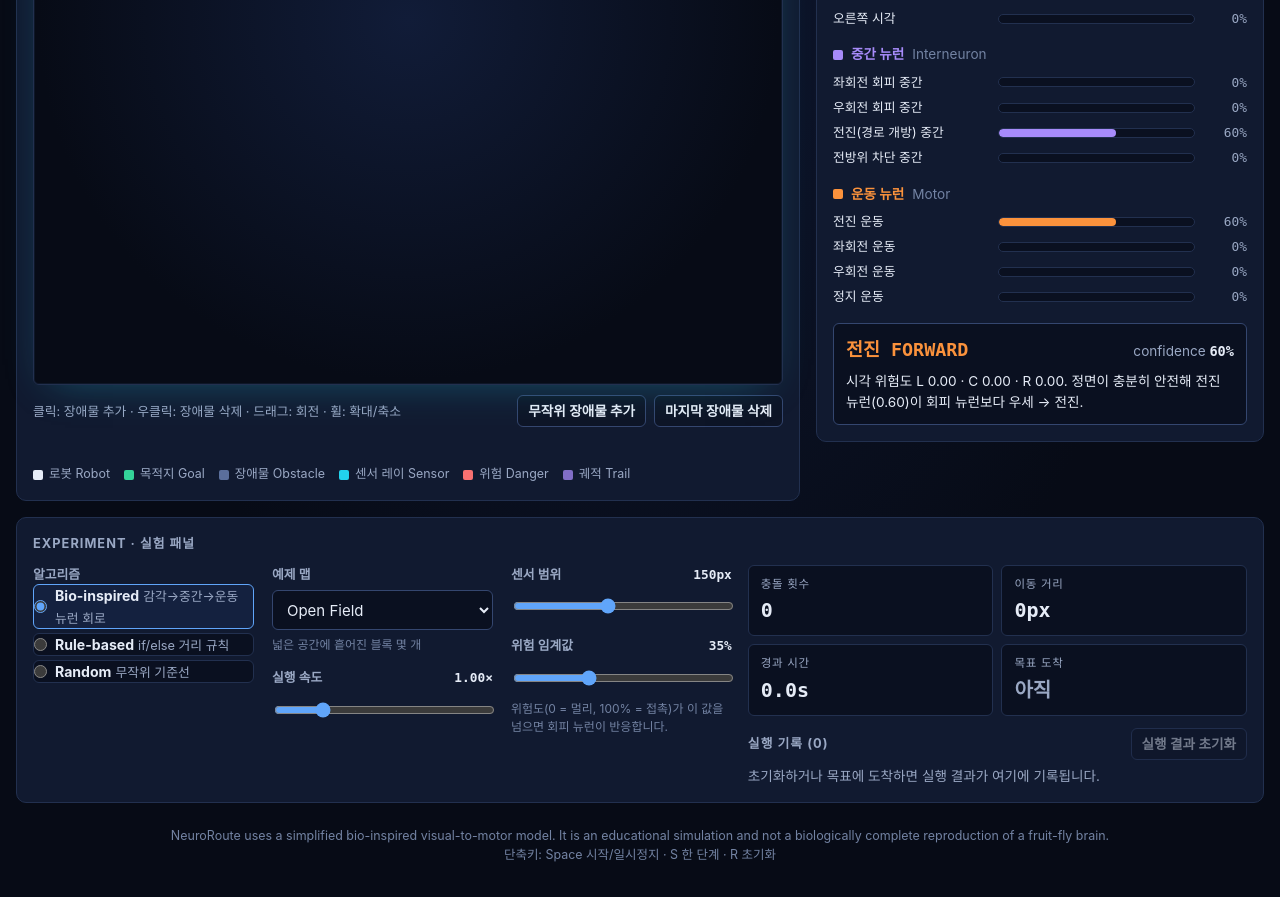
Test: App › changes map, speed, sensor range and danger threshold
(page scrolled)
Select "Maze" in the dropdown labelled "예제 맵" at (382, 610), box [272,590,493,630]
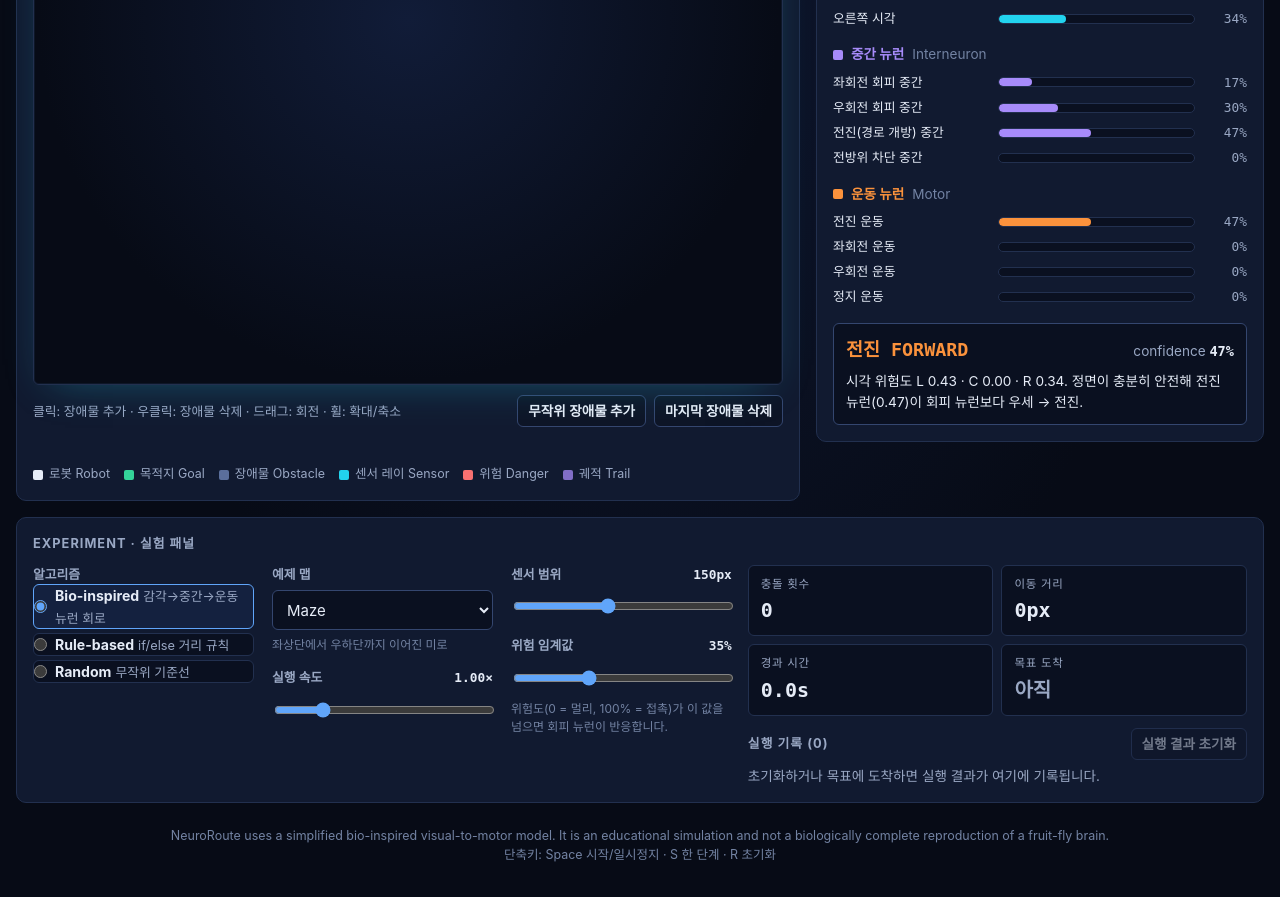
Set the slider labelled "센서 범위 150px" to "250" at (686, 606), box [513,592,734,620]
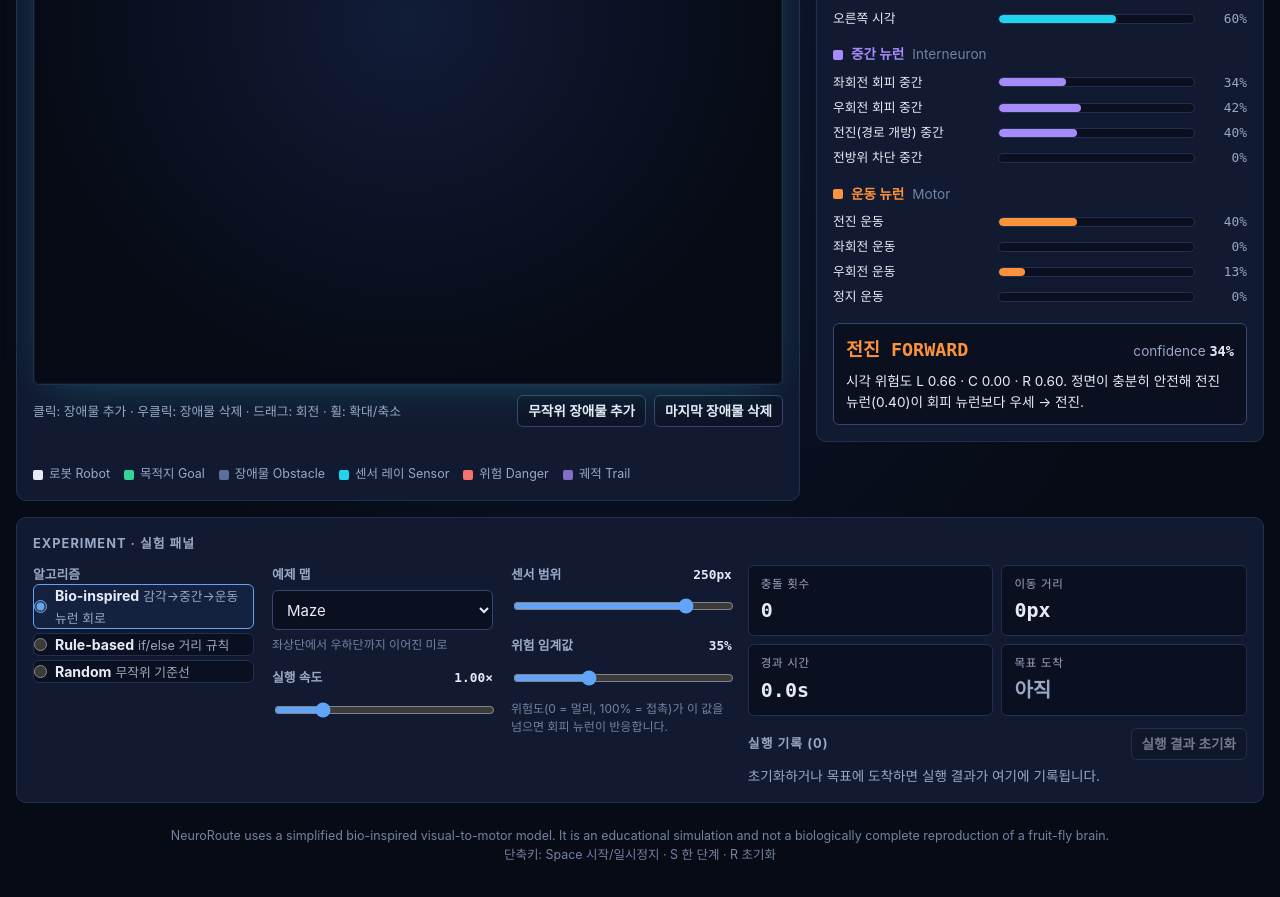
Set the slider labelled "위험 임계값 35%" to "0.5" at (623, 678), box [513,664,734,692]
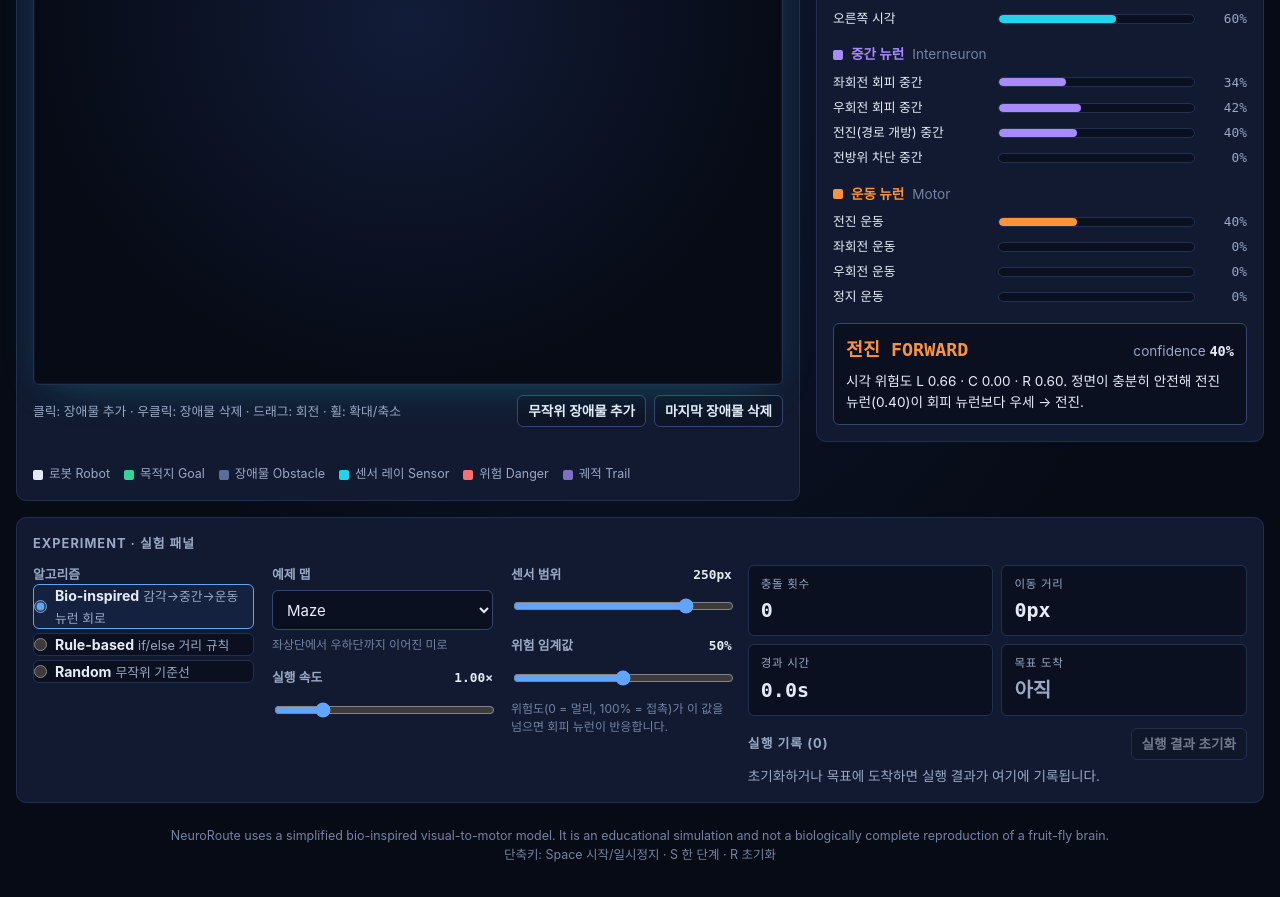
Check: the text "50%" is shown, box [709,636,732,656]
Set the slider labelled "실행 속도 1.00×" to "2" at (378, 710), box [274,696,495,724]
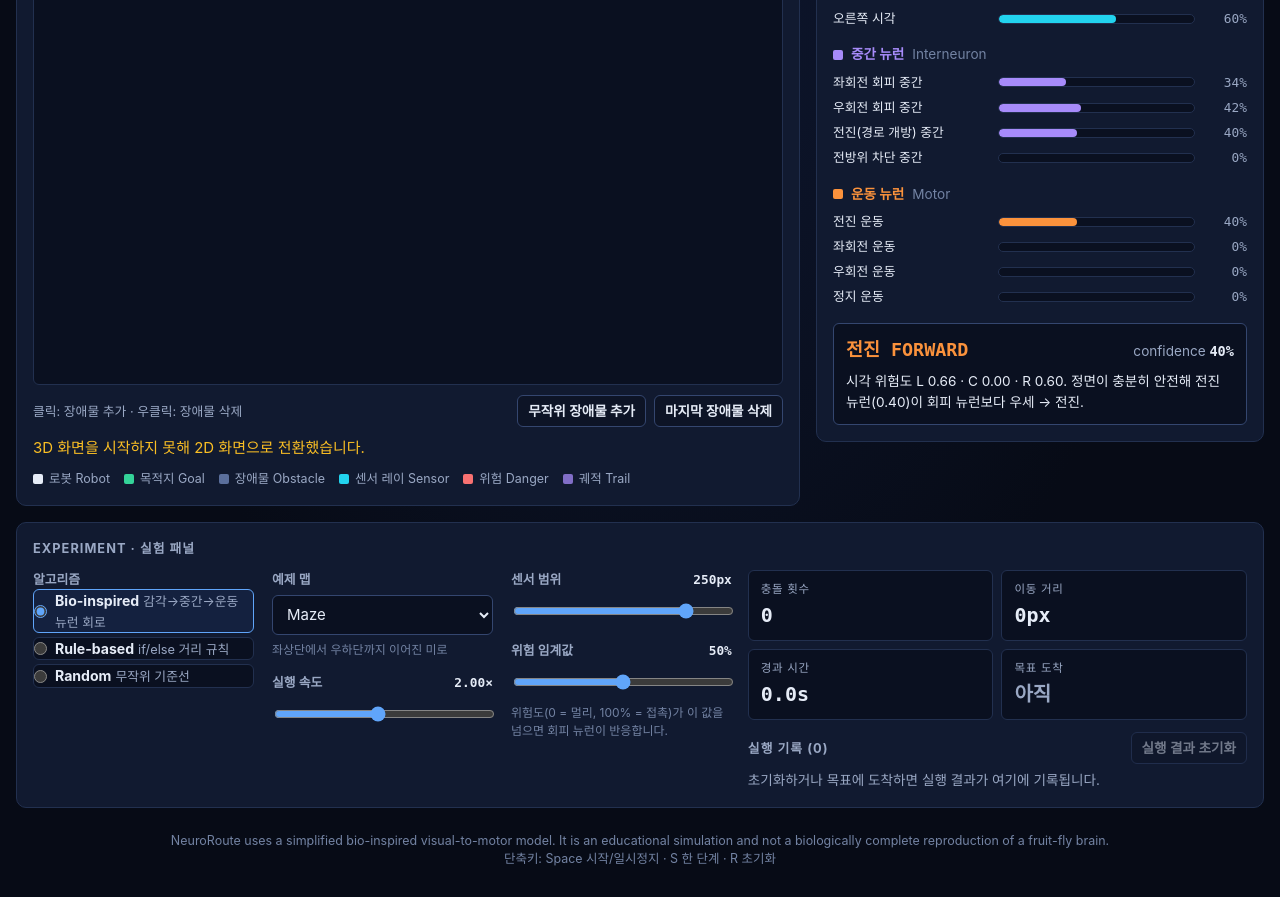
Check: the text "2.00×" is shown, box [454,673,493,692]
